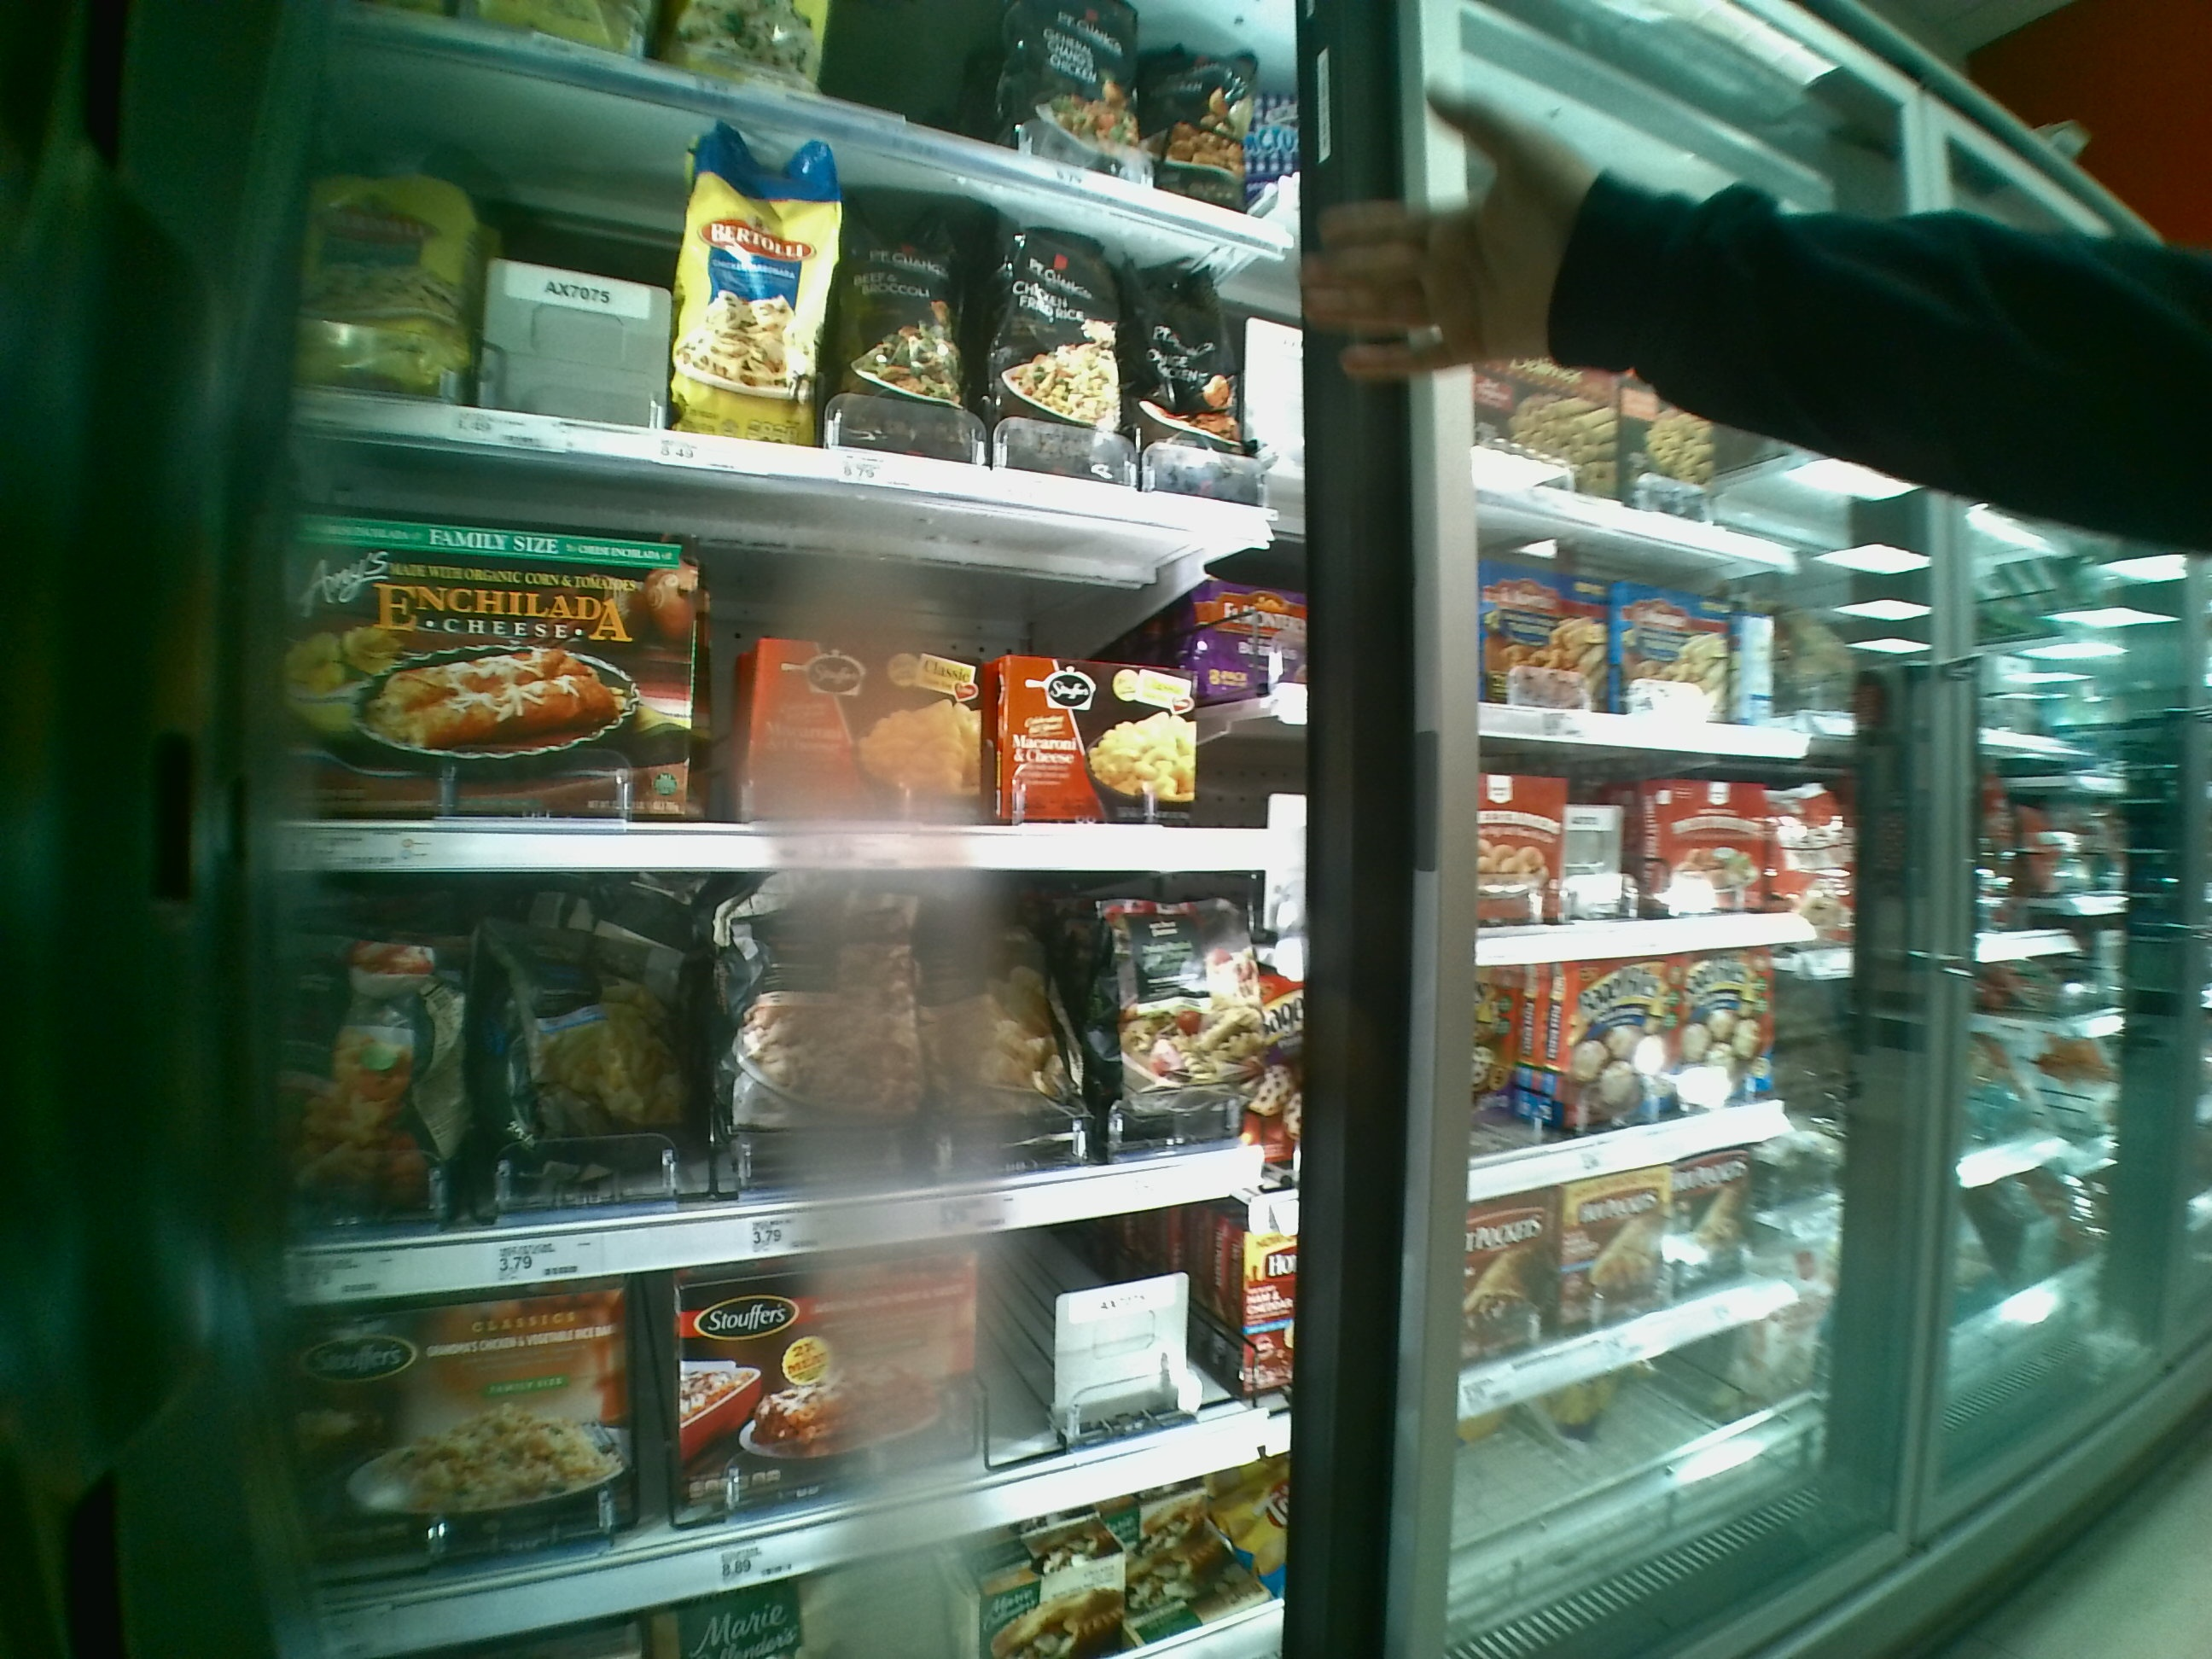shelf: (268, 481, 1308, 870), (275, 882, 1308, 1258), (286, 143, 1299, 488)
